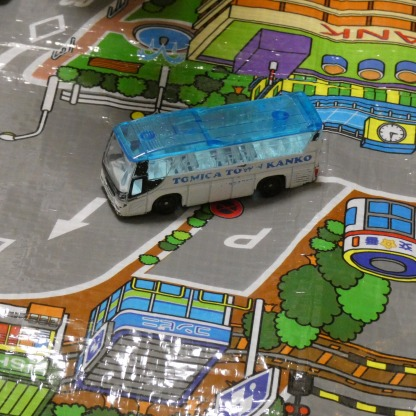car: (95, 90, 330, 215)
